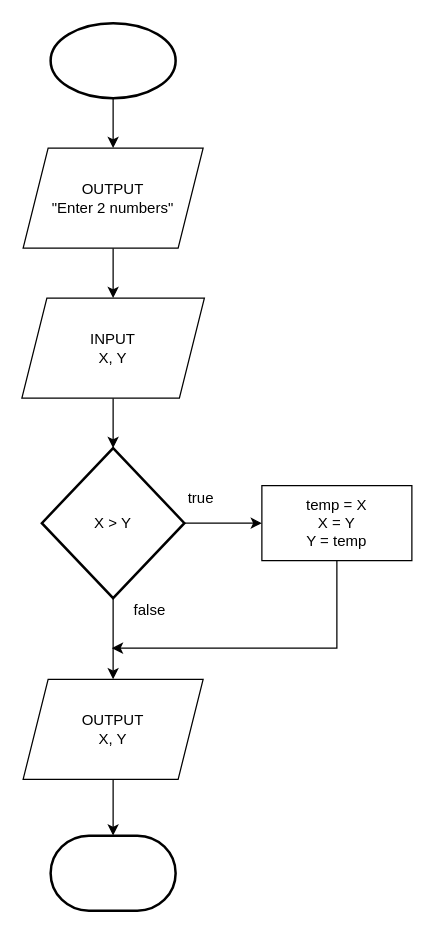
Image size: 434x933. Some labels were removed from this diagram. The centre of each missing label's shape, as x and y in pixels:
"START" belongs at pixel 112 60.
"STOP" belongs at pixel 112 872.
